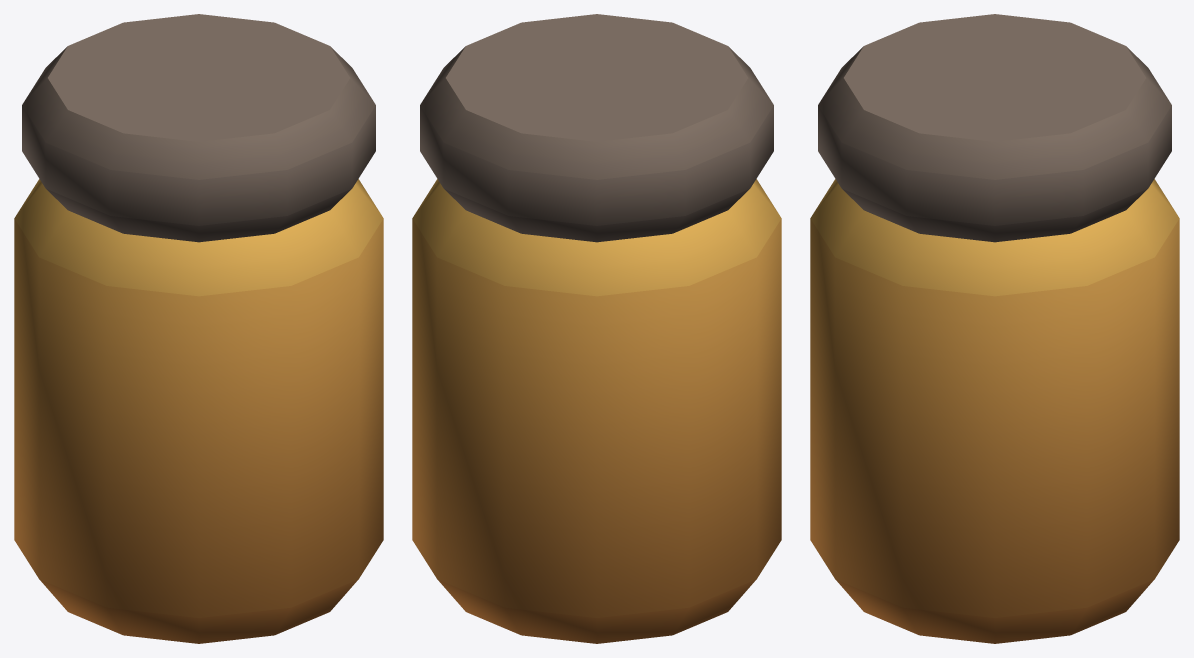
Rendered from jar_D_large.glb.
3 renders of one model, left to right at view 1: azimuth 30°, elevation 25°; view 2: azimuth 150°, elevation 25°; view 3: azimuth 270°, elevation 25°, orthographic.
Visible parts, largest first — view 1: jar_D_large; view 2: jar_D_large; view 3: jar_D_large.
Boxes of the visible parts, box(x1,y1,x2,y2) form: jar_D_large: box(14, 14, 383, 643); jar_D_large: box(412, 14, 781, 643); jar_D_large: box(810, 14, 1179, 643).
Size of the model in its own units: 0.5 by 0.75 by 0.5.
Materials: 1 (1 with a texture image).
